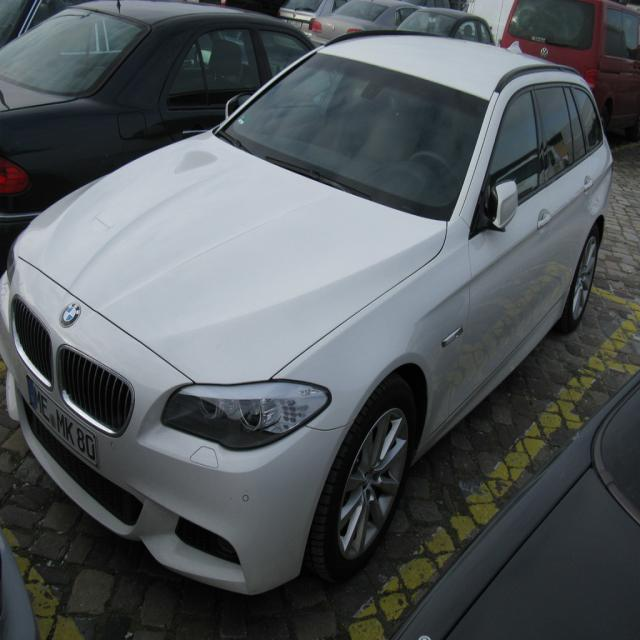car: (2, 18, 609, 596)
